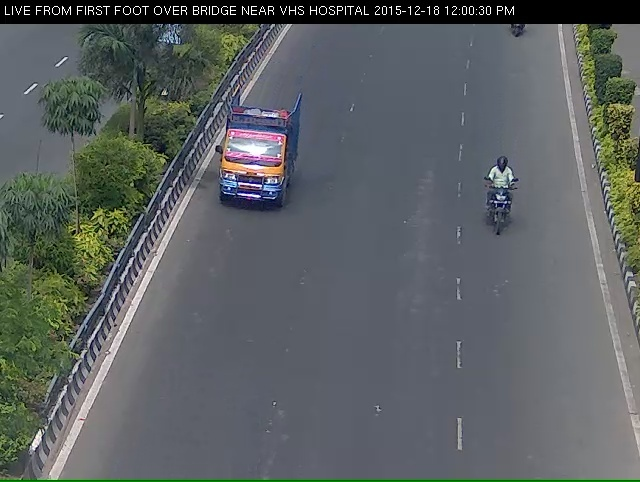Car: (212, 108, 291, 228)
Person: (478, 170, 524, 269)
